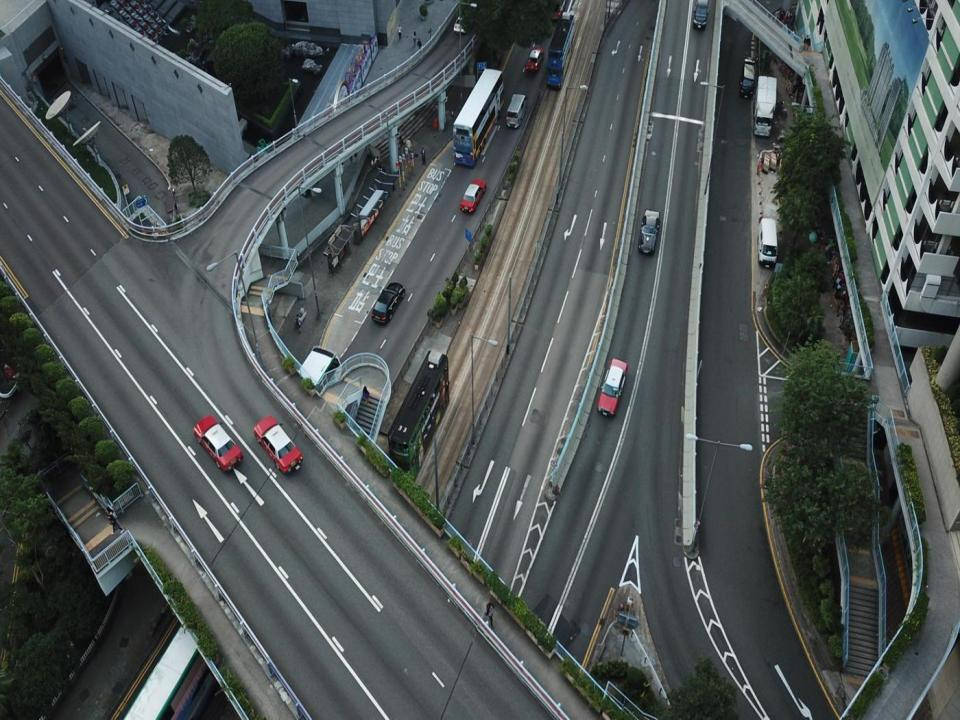bus: (126, 612, 238, 719), (387, 349, 450, 484), (283, 347, 344, 434), (453, 69, 504, 167), (546, 8, 574, 89), (294, 141, 326, 197)
car: (254, 416, 303, 473), (193, 414, 242, 470), (599, 359, 626, 417), (374, 280, 406, 322), (638, 210, 660, 254), (461, 178, 485, 214), (453, 12, 472, 34), (526, 48, 544, 70)
truck: (754, 75, 777, 137)
van: (758, 218, 777, 268), (506, 93, 527, 129), (741, 56, 755, 98), (693, 0, 709, 30)
